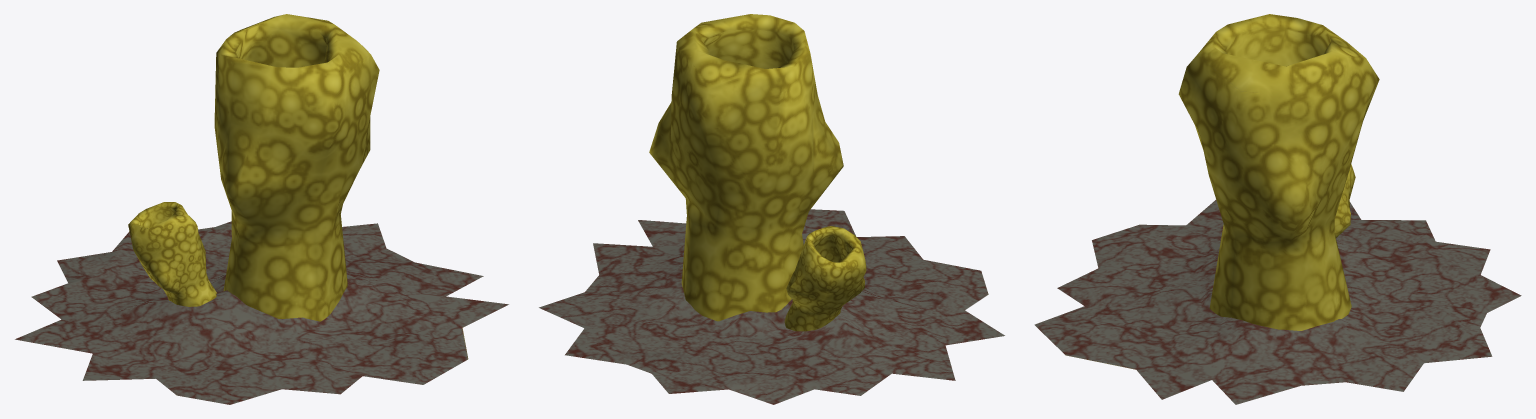
File: Sponge2.fbx
3 views of the same model, side by side, from view 1: azimuth 30°, elevation 25°; view 2: azimuth 150°, elevation 25°; view 3: azimuth 270°, elevation 25° (orthographic). The views are drawn at different scales.
Visible parts, largest first — view 1: Sponge2; view 2: Sponge2; view 3: Sponge2.
Part boxes in pixels (x1,y1,x2,y2): Sponge2: [15, 14, 508, 404]; Sponge2: [539, 14, 1004, 404]; Sponge2: [1034, 14, 1521, 404].
Size of the model in its own units: 2.14 by 1.34 by 2.07.
